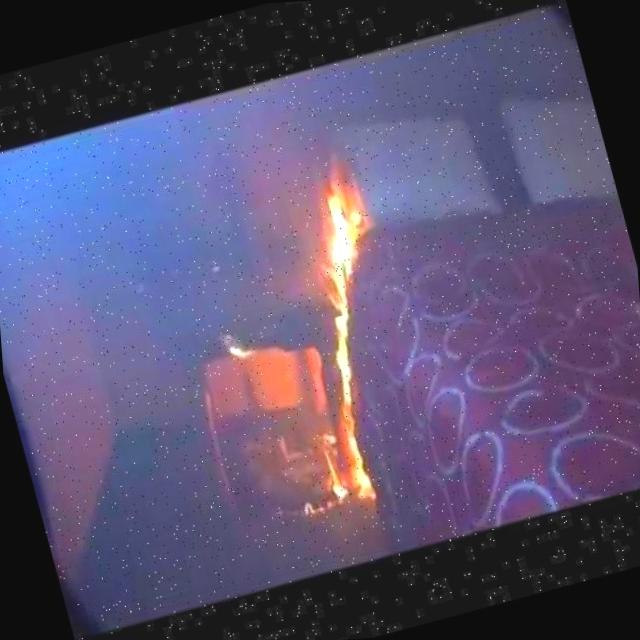fire: (204, 138, 465, 540)
